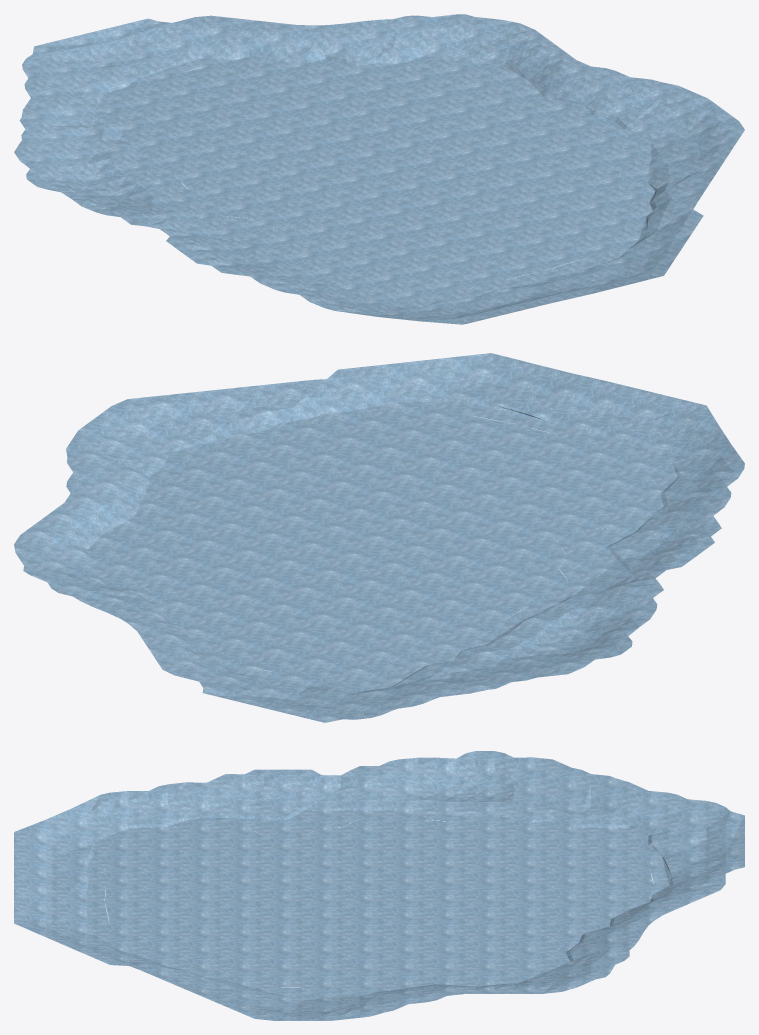
File: ice_lake_1-map.glb
The picture shows the model from 3 angles, top to bottom: view 1: azimuth 30°, elevation 25°; view 2: azimuth 150°, elevation 25°; view 3: azimuth 270°, elevation 25°; orthographic projection. The views are drawn at different scales.
Visible parts, largest first — view 1: ice_lake_a_LOD0; view 2: ice_lake_a_LOD0; view 3: ice_lake_a_LOD0.
Boxes of the visible parts, <box> form: ice_lake_a_LOD0: <box>14,14,744,324</box>; ice_lake_a_LOD0: <box>14,353,744,722</box>; ice_lake_a_LOD0: <box>14,751,744,1020</box>.
Bounding box in the file's own units: 141 × 3.04 × 161.
Materials: 1 (1 with a texture image).
